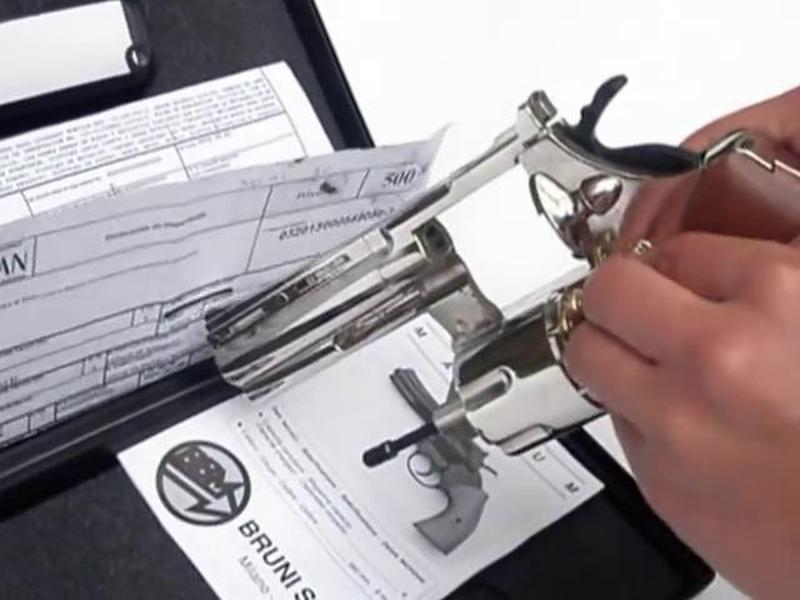Revolver: (207, 104, 800, 453)
